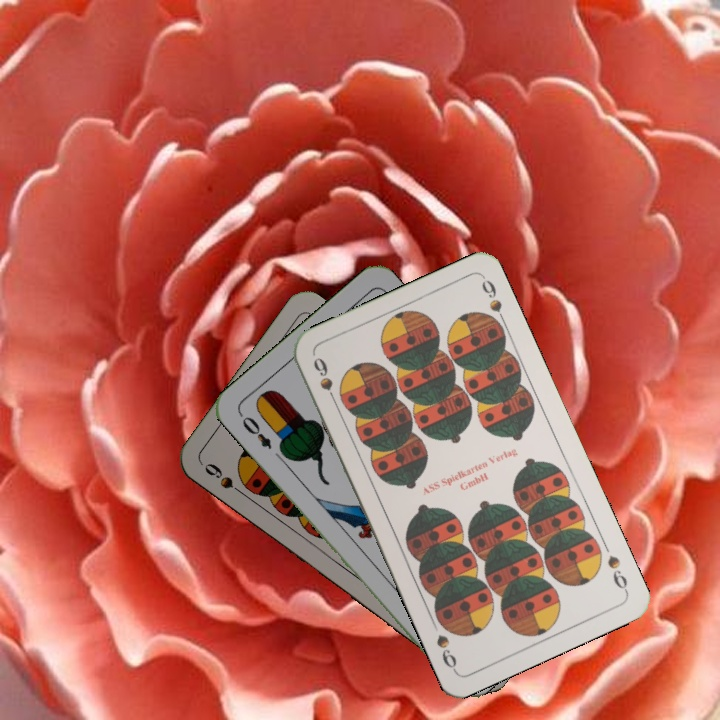EO: (238, 412, 275, 452)
S9: (200, 458, 251, 501), (309, 353, 341, 409), (603, 551, 631, 595)
